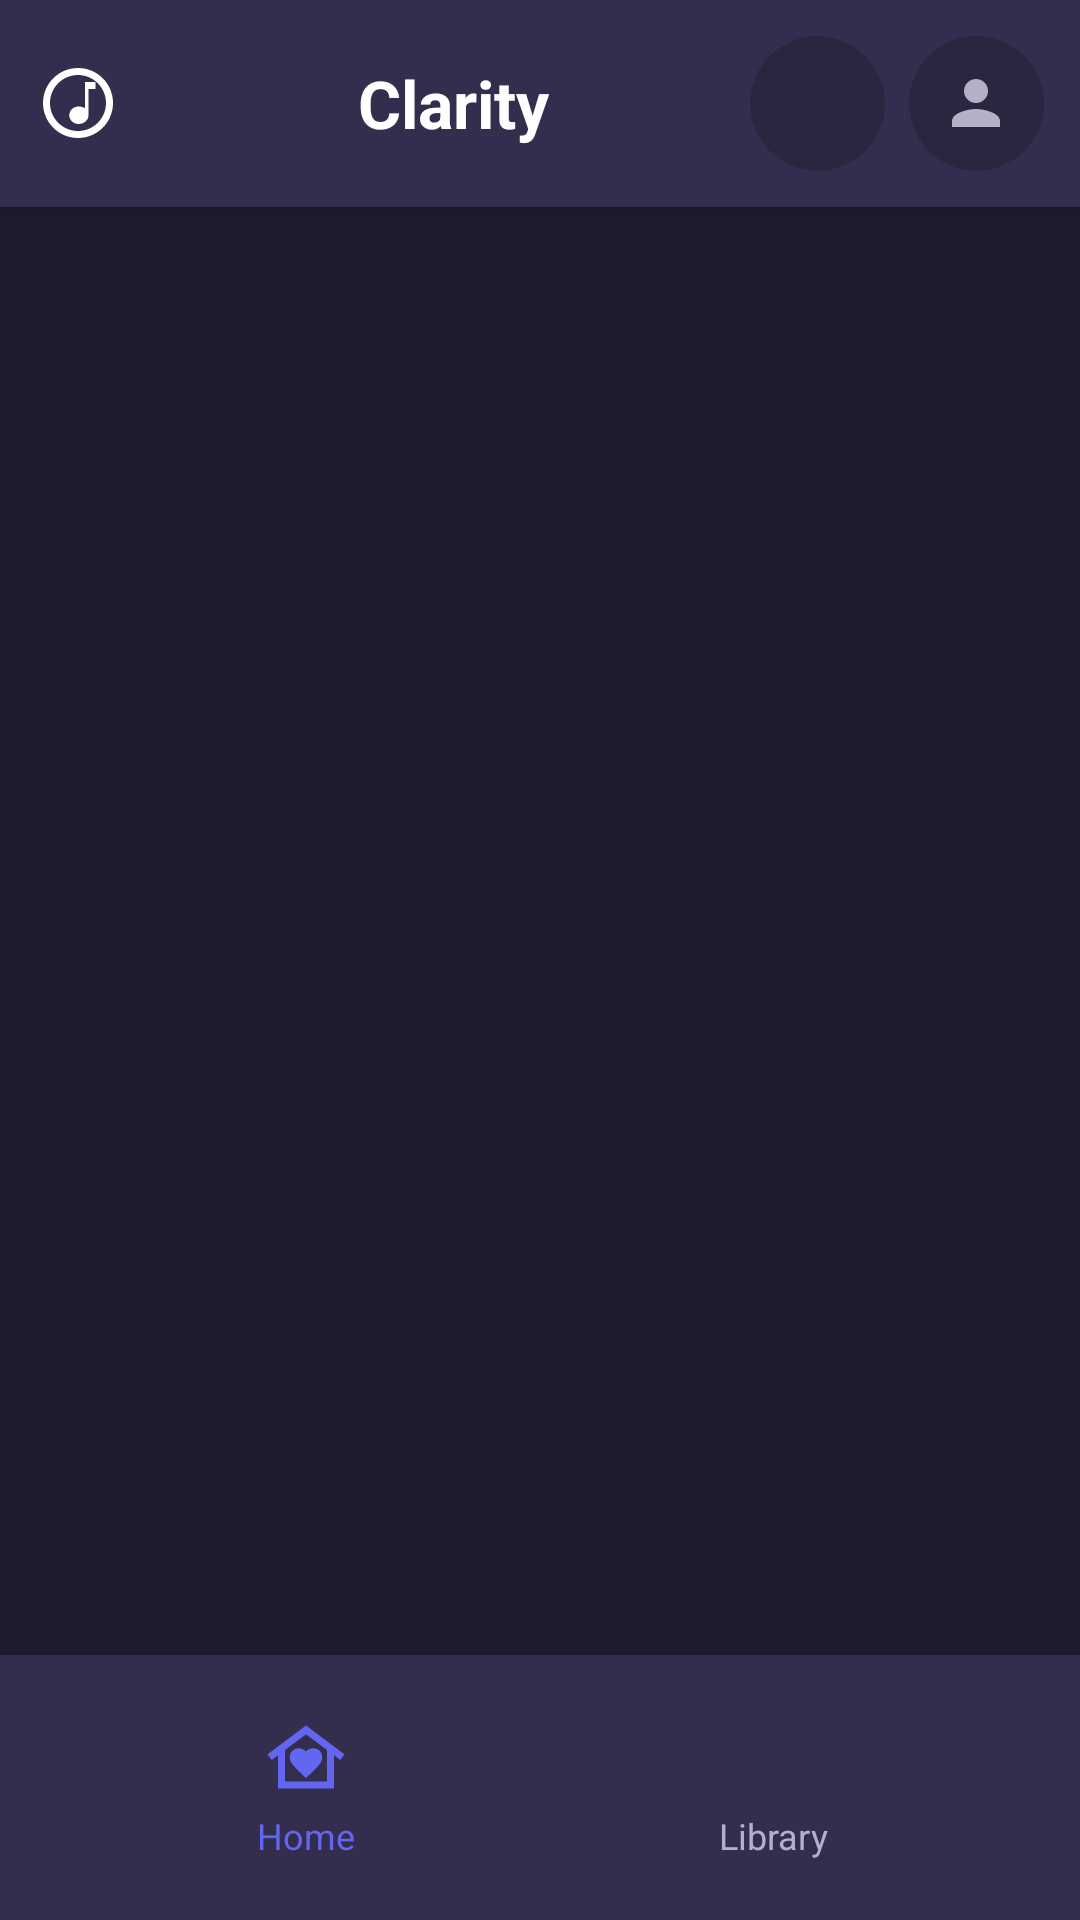

Icons on this 1080px×1920px Android screen, each with the point to tap as point (x, y):
music note: point (78, 103)
person: point (976, 103)
